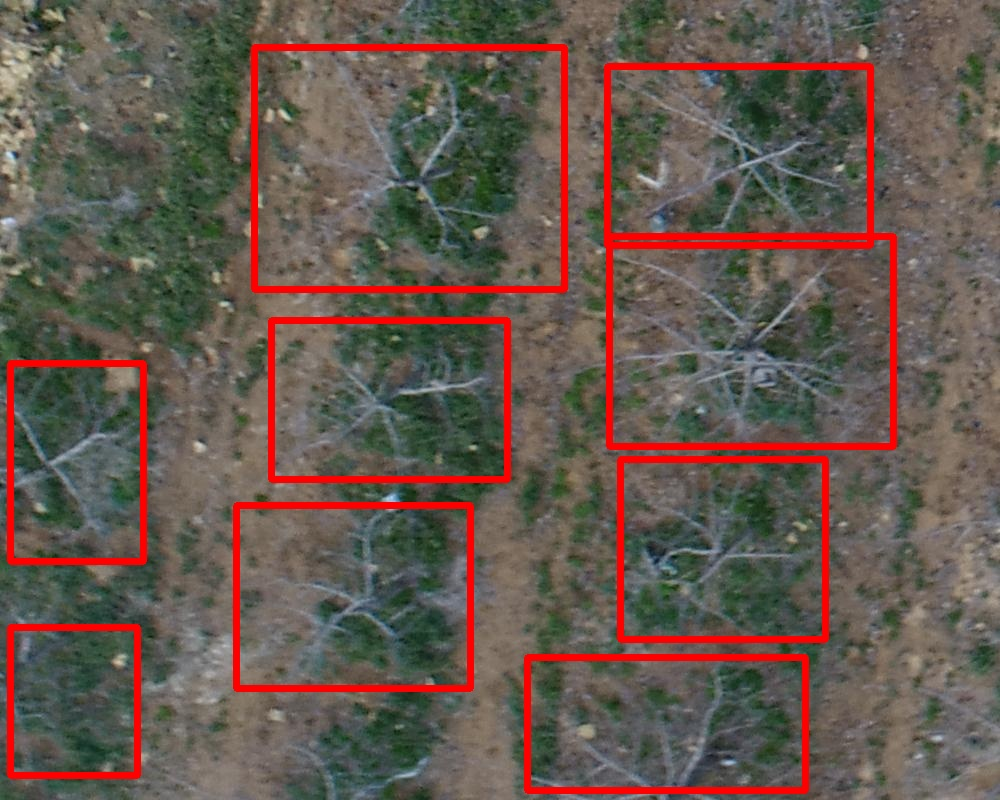apple: (254, 47, 564, 289), (609, 236, 893, 446), (607, 66, 870, 245), (236, 505, 470, 688), (271, 320, 507, 479), (527, 657, 805, 790), (620, 459, 825, 639), (10, 363, 143, 561), (10, 627, 137, 775)
